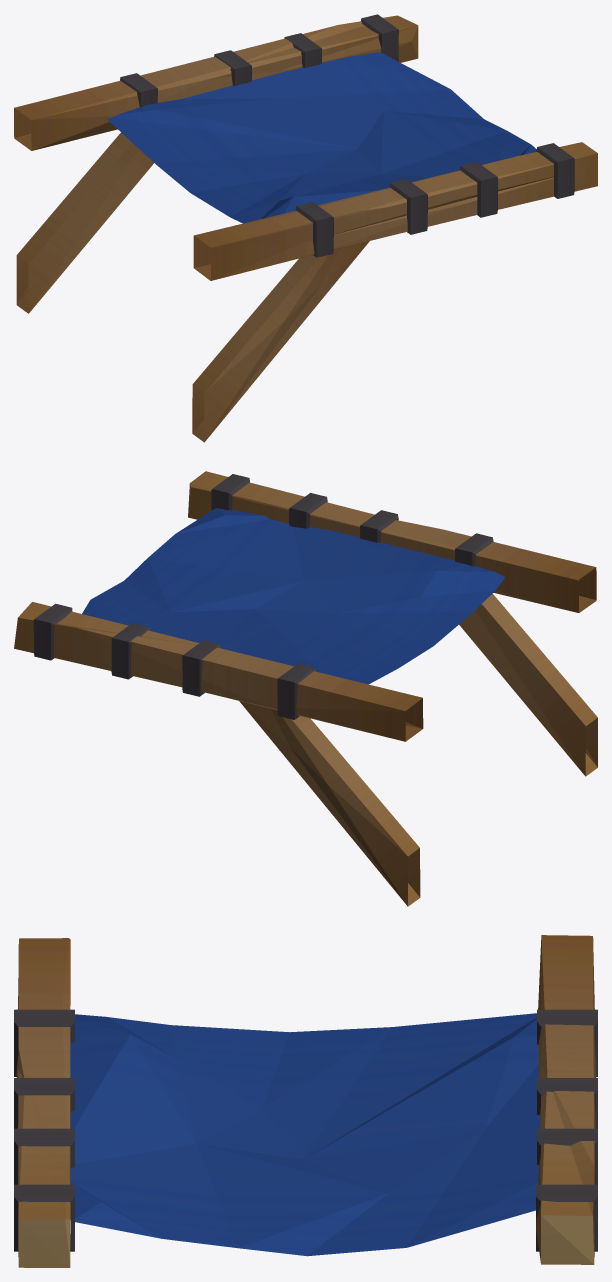
Rendered from Fabrics_1.fbx.
The picture shows the model from 3 angles, top to bottom: view 1: azimuth 30°, elevation 25°; view 2: azimuth 150°, elevation 25°; view 3: azimuth 270°, elevation 25°; orthographic projection. The views are drawn at different scales.
Parts seen in each view (by area): view 1: polySurface9745; view 2: polySurface9745; view 3: polySurface9745.
Boxes of the visible parts, box(x1,y1,x2,y2) form: polySurface9745: box(14, 14, 597, 442); polySurface9745: box(14, 471, 597, 906); polySurface9745: box(14, 935, 597, 1267).
Size of the model in its own units: 308 by 150 by 268.
